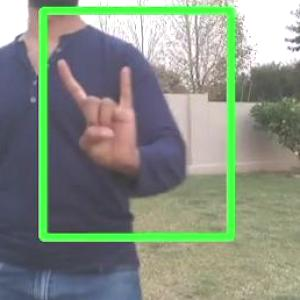takeoff-hand: (54, 45, 144, 184)
